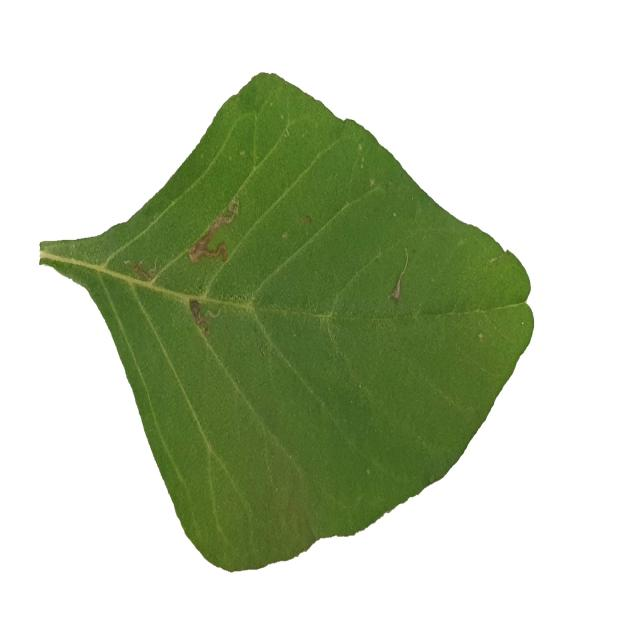Medicinal-Arive Dantu: (41, 71, 533, 572)
